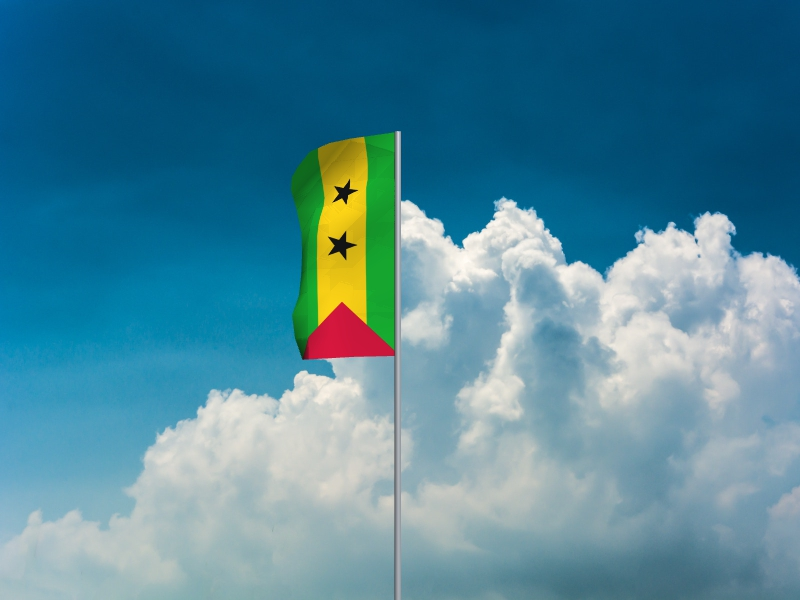st: (289, 134, 395, 361)
